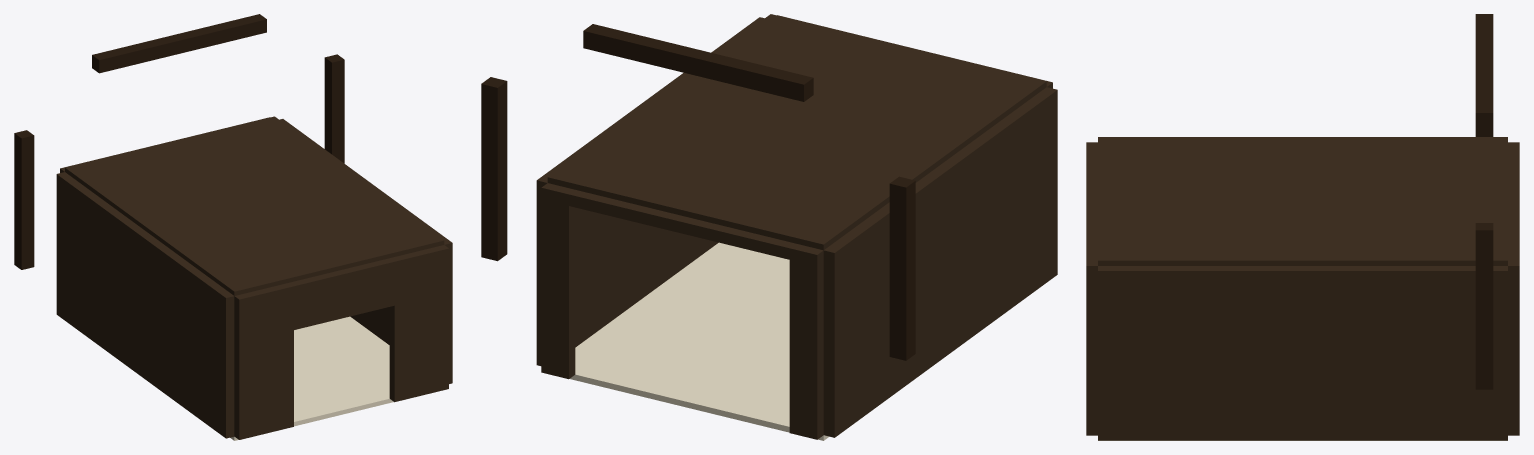
File: env_shell_z1_vestibulo.glb
The picture shows the model from 3 angles, left to right: view 1: azimuth 30°, elevation 25°; view 2: azimuth 150°, elevation 25°; view 3: azimuth 270°, elevation 25°; orthographic projection. The views are drawn at different scales.
Parts seen in each view (by area): view 1: Z1_Ceiling, Z1_Wall_W, Z1_Wall_S_Seg_L, Z1_Floor, Z1_Wall_S_Seg_R, Z1_Wall_S_Lintel, Z1_Arch_Lintel, Z1_Arch_Jamb_L, Z1_Wall_E, Z1_Arch_Jamb_R; view 2: Z1_Ceiling, Z1_Wall_W, Z1_Floor, Z1_Wall_E, Z1_Wall_N_Seg_L, Z1_Wall_N_Seg_R, Z1_Arch_Lintel, Z1_Arch_Jamb_R, Z1_Arch_Jamb_L, Z1_Wall_N_Lintel; view 3: Z1_Wall_E, Z1_Ceiling, Z1_Arch_Jamb_R, Z1_Wall_S_Seg_R, Z1_Wall_N_Seg_R, Z1_Arch_Lintel, Z1_Wall_N_Lintel, Z1_Wall_S_Lintel.
Boxes of the visible parts, x1,y1,x2,y2 form: Z1_Ceiling: [65, 116, 444, 295]; Z1_Wall_W: [56, 172, 234, 438]; Z1_Wall_S_Seg_L: [234, 283, 293, 439]; Z1_Floor: [230, 316, 393, 440]; Z1_Wall_S_Seg_R: [389, 245, 448, 402]; Z1_Wall_S_Lintel: [289, 258, 394, 329]; Z1_Arch_Lintel: [92, 14, 266, 73]; Z1_Arch_Jamb_L: [14, 130, 34, 269]; Z1_Wall_E: [279, 119, 452, 383]; Z1_Arch_Jamb_R: [324, 54, 344, 163]; Z1_Ceiling: [547, 14, 1046, 250]; Z1_Wall_W: [823, 87, 1057, 437]; Z1_Floor: [570, 242, 828, 440]; Z1_Wall_E: [536, 17, 764, 365]; Z1_Wall_N_Seg_L: [789, 243, 823, 439]; Z1_Wall_N_Seg_R: [541, 183, 575, 379]; Z1_Arch_Lintel: [583, 24, 813, 101]; Z1_Arch_Jamb_R: [481, 77, 507, 261]; Z1_Arch_Jamb_L: [889, 176, 915, 360]; Z1_Wall_N_Lintel: [569, 190, 795, 259]; Z1_Wall_E: [1098, 266, 1507, 440]; Z1_Ceiling: [1098, 137, 1507, 265]; Z1_Arch_Jamb_R: [1475, 223, 1493, 389]; Z1_Wall_S_Seg_R: [1086, 233, 1097, 435]; Z1_Wall_N_Seg_R: [1508, 253, 1519, 435]; Z1_Arch_Lintel: [1475, 14, 1493, 128]; Z1_Wall_N_Lintel: [1508, 154, 1519, 253]; Z1_Wall_S_Lintel: [1086, 174, 1097, 233].
Size of the model in its own units: 7.7 by 5.95 by 7.4.
